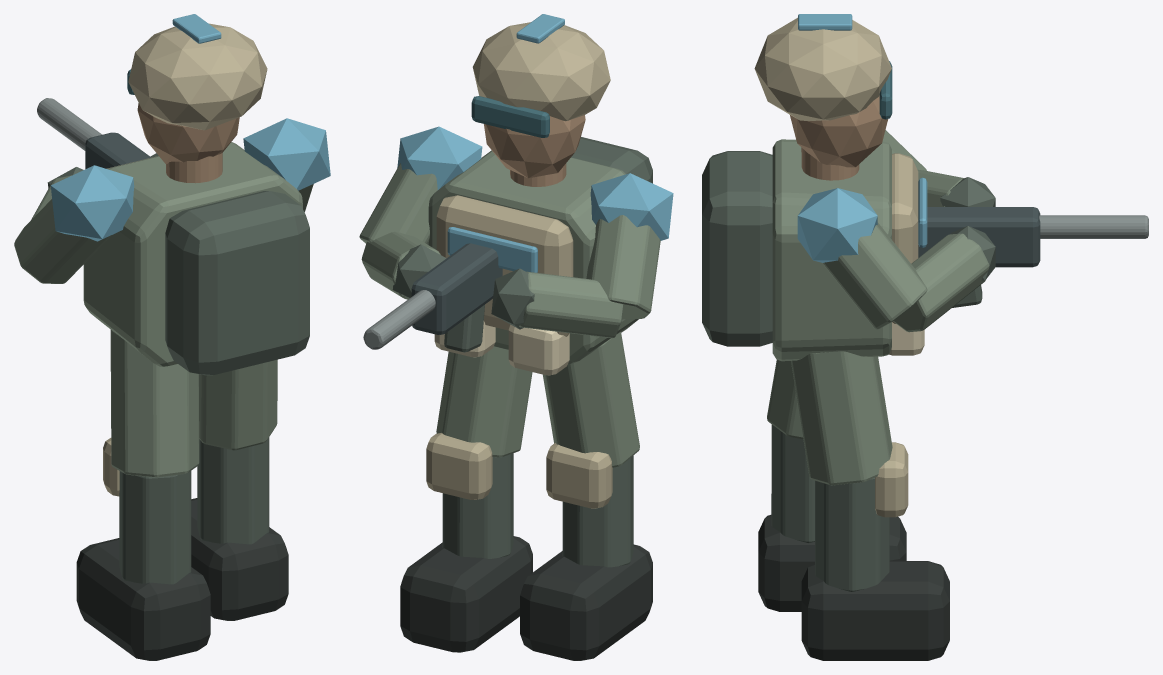
File: rifle.glb
The picture shows the model from 3 angles, left to right: view 1: azimuth 30°, elevation 25°; view 2: azimuth 150°, elevation 25°; view 3: azimuth 270°, elevation 25°; orthographic projection.
Parts seen in each view (by area): view 1: body; view 2: body; view 3: body.
Boxes of the visible parts, x1=… form: body: x1=14, y1=14, x2=330, y2=660; body: x1=359, y1=14, x2=673, y2=660; body: x1=702, y1=14, x2=1148, y2=660.
Size of the model in its own units: 0.9228 by 1.85 by 1.24.
